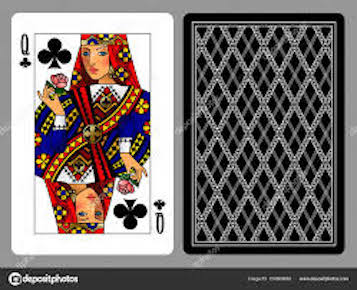QueenOfClubs: (13, 15, 173, 256)
